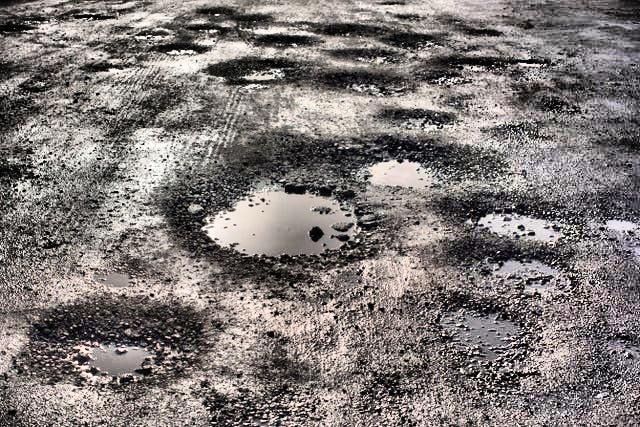pothole: (199, 159, 360, 268), (36, 296, 191, 390), (428, 303, 541, 364), (462, 194, 572, 255), (364, 138, 441, 202), (480, 258, 574, 299), (379, 103, 449, 136), (223, 60, 289, 88), (592, 202, 638, 240), (466, 58, 551, 75), (340, 74, 393, 98), (429, 67, 470, 98), (330, 49, 401, 66), (266, 29, 313, 53), (325, 21, 381, 40), (390, 33, 442, 53), (159, 39, 204, 58), (236, 9, 274, 26), (188, 21, 225, 38), (198, 3, 234, 19)
